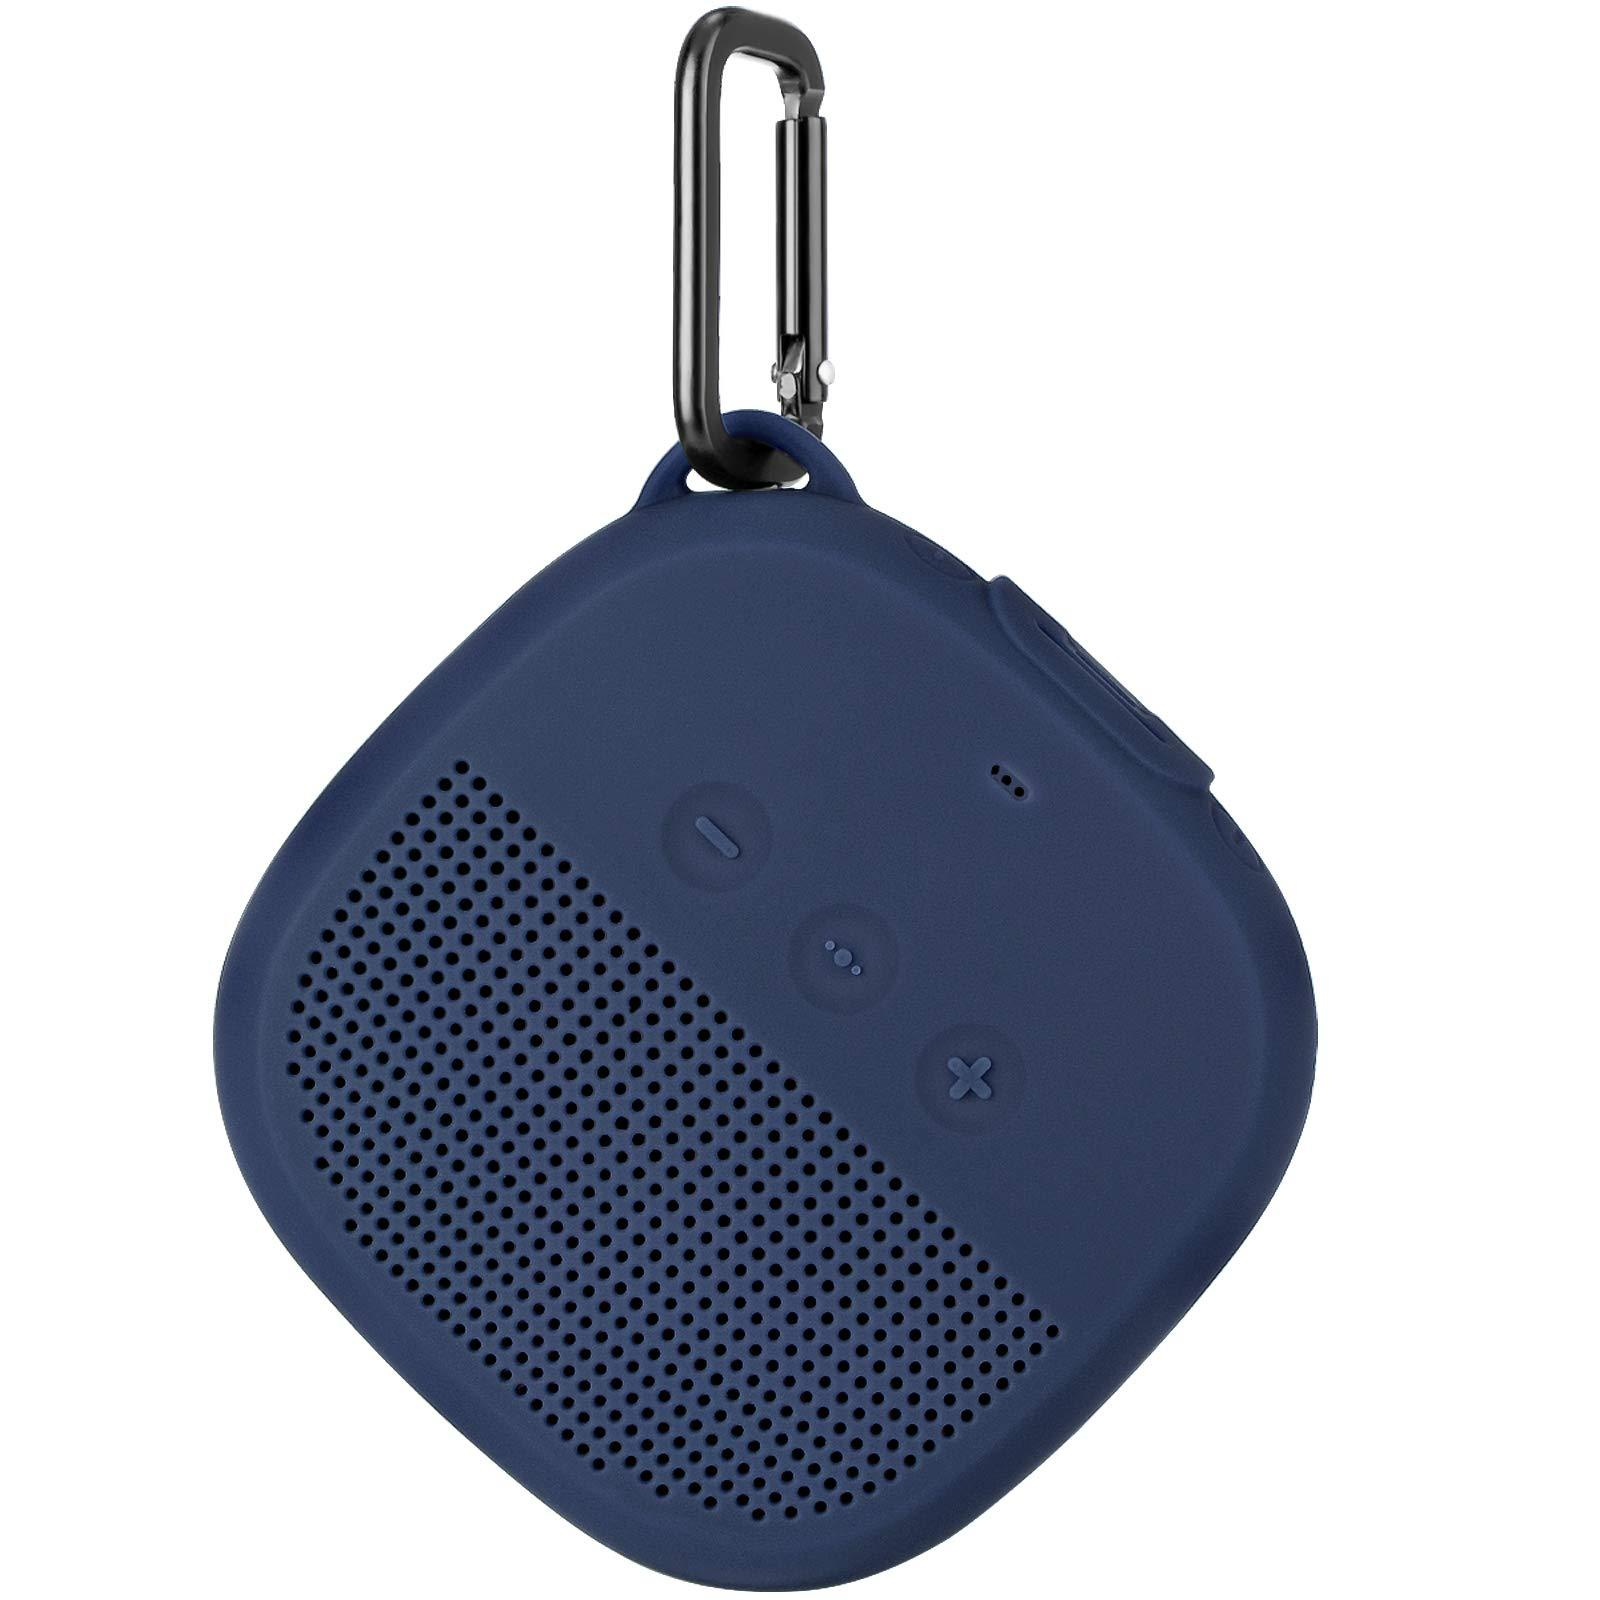speaker: (210, 16, 1320, 1599)
